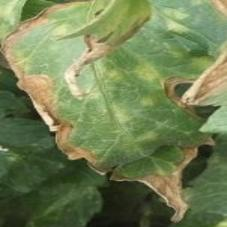Late Blight: (0, 0, 227, 223)
